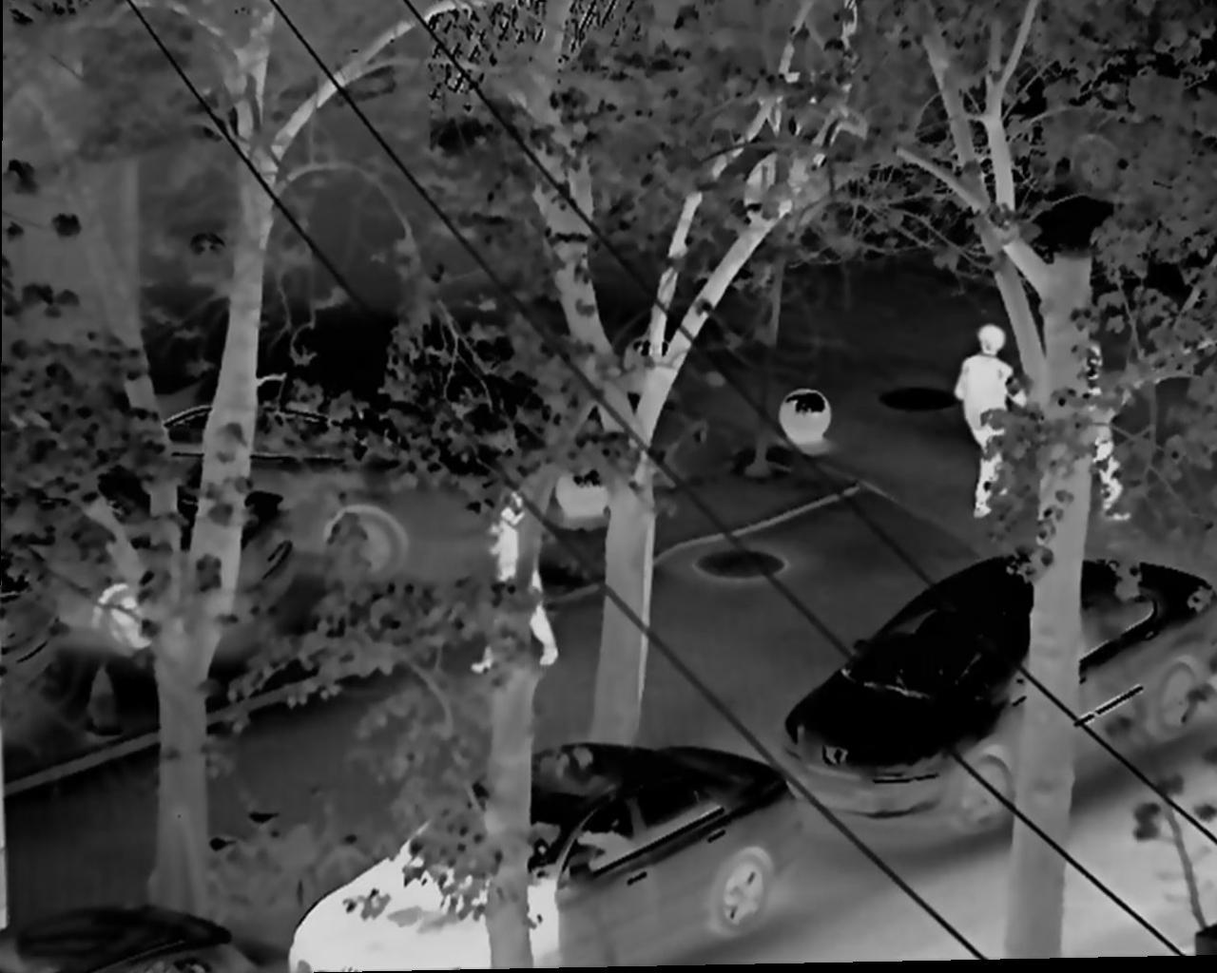person: (469, 491, 562, 674), (1050, 325, 1131, 527), (958, 327, 1041, 519)
